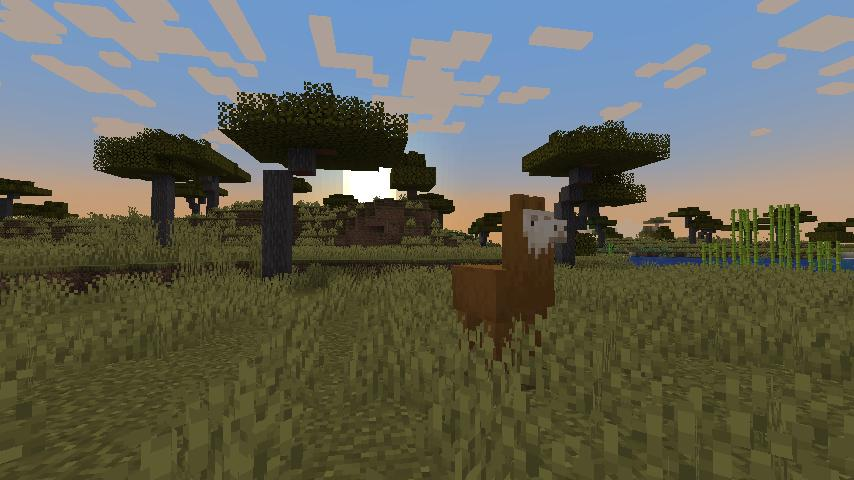llama: (449, 190, 571, 354)
